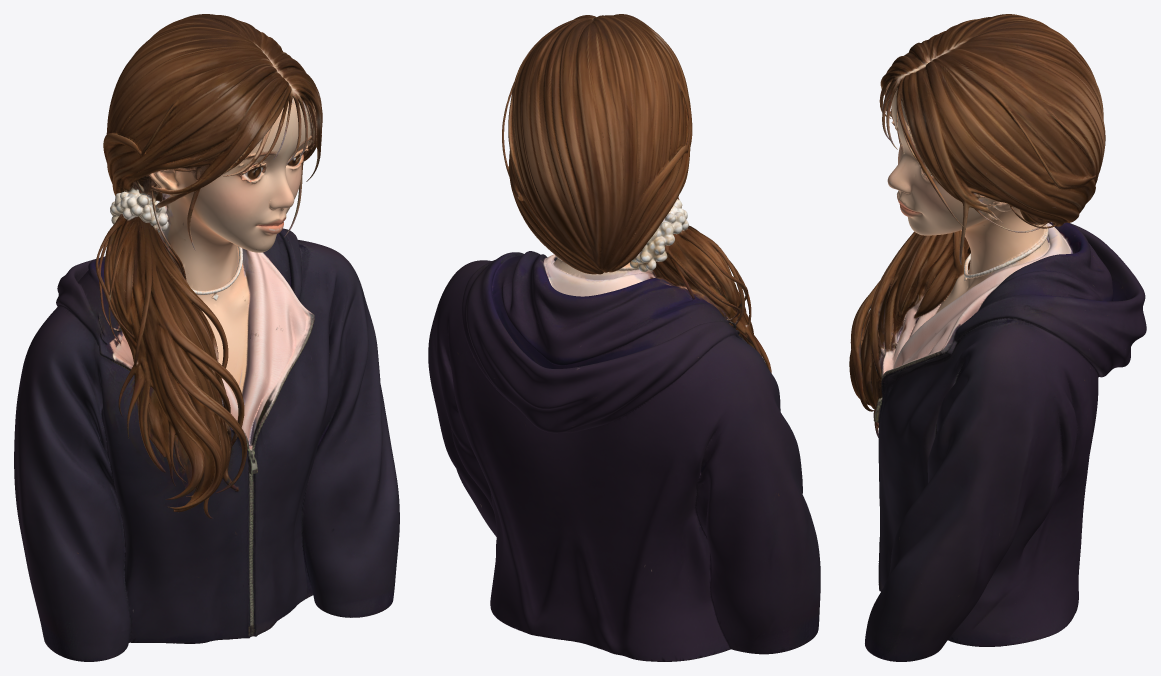
3 renders of one model, left to right at view 1: azimuth 30°, elevation 25°; view 2: azimuth 150°, elevation 25°; view 3: azimuth 270°, elevation 25°, orthographic. The views are drawn at different scales.
Bounding box in the file's own units: 1.23 × 1.9 × 0.8877.
1 material, 1 textured.
